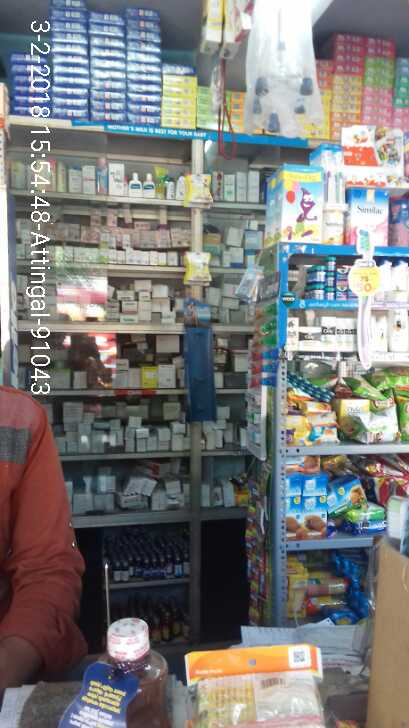beauty: (316, 314, 357, 352)
pharmacy: (328, 259, 351, 307), (305, 263, 325, 302)
